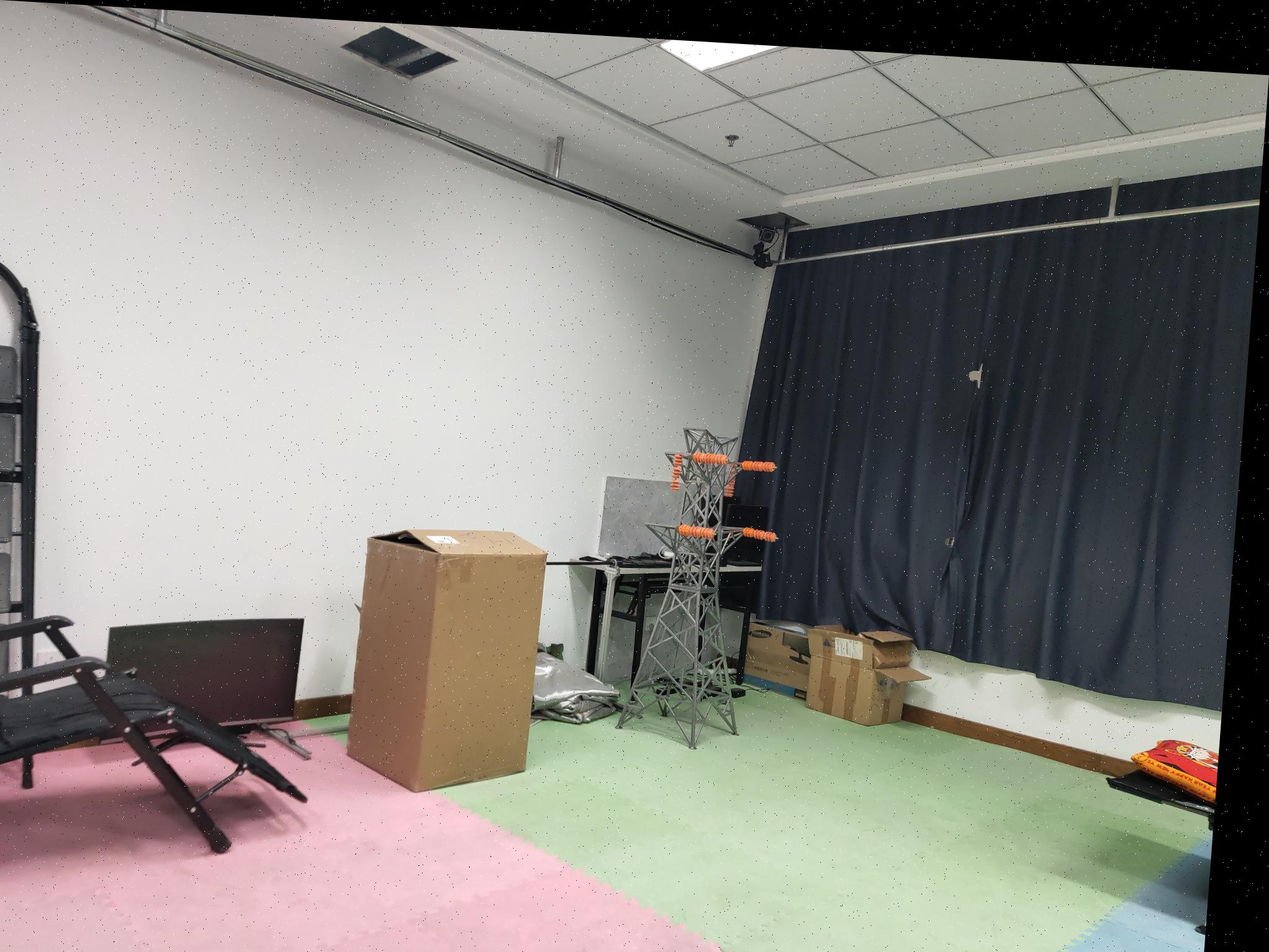tower: (614, 424, 761, 745)
